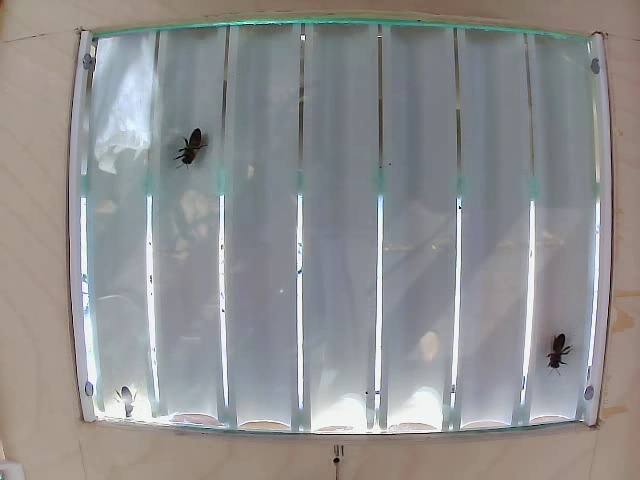bee: (545, 328, 577, 375), (172, 130, 203, 165)
